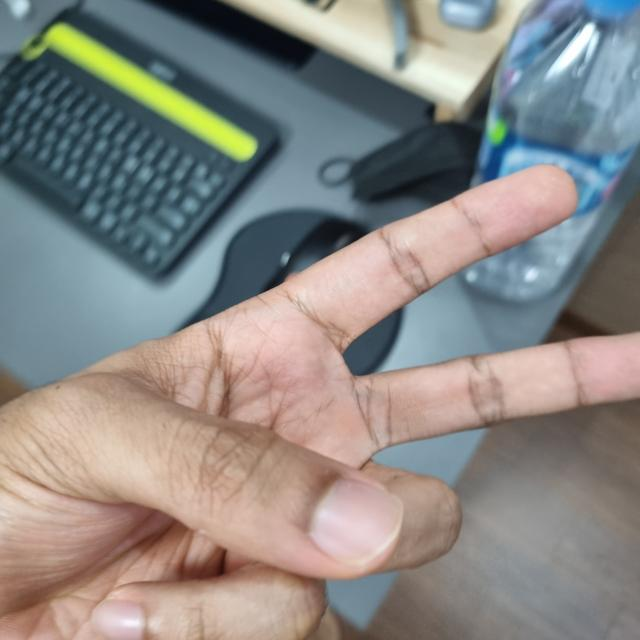Scissors: (3, 168, 582, 614)
